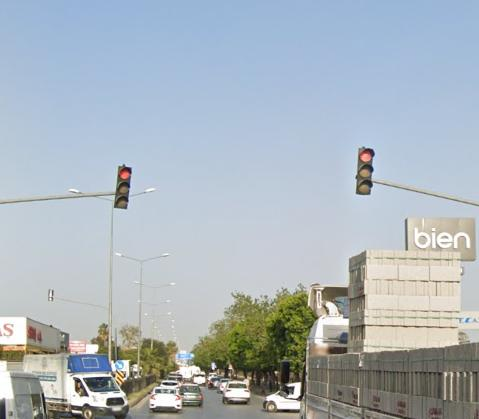redlight: (357, 147, 375, 194), (117, 165, 131, 208)
